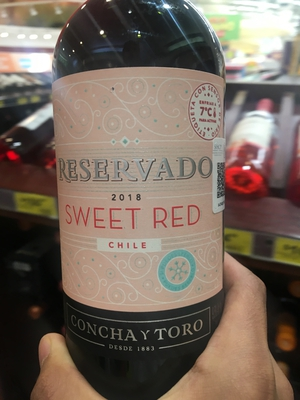reservado sweet red: (51, 14, 231, 367)
